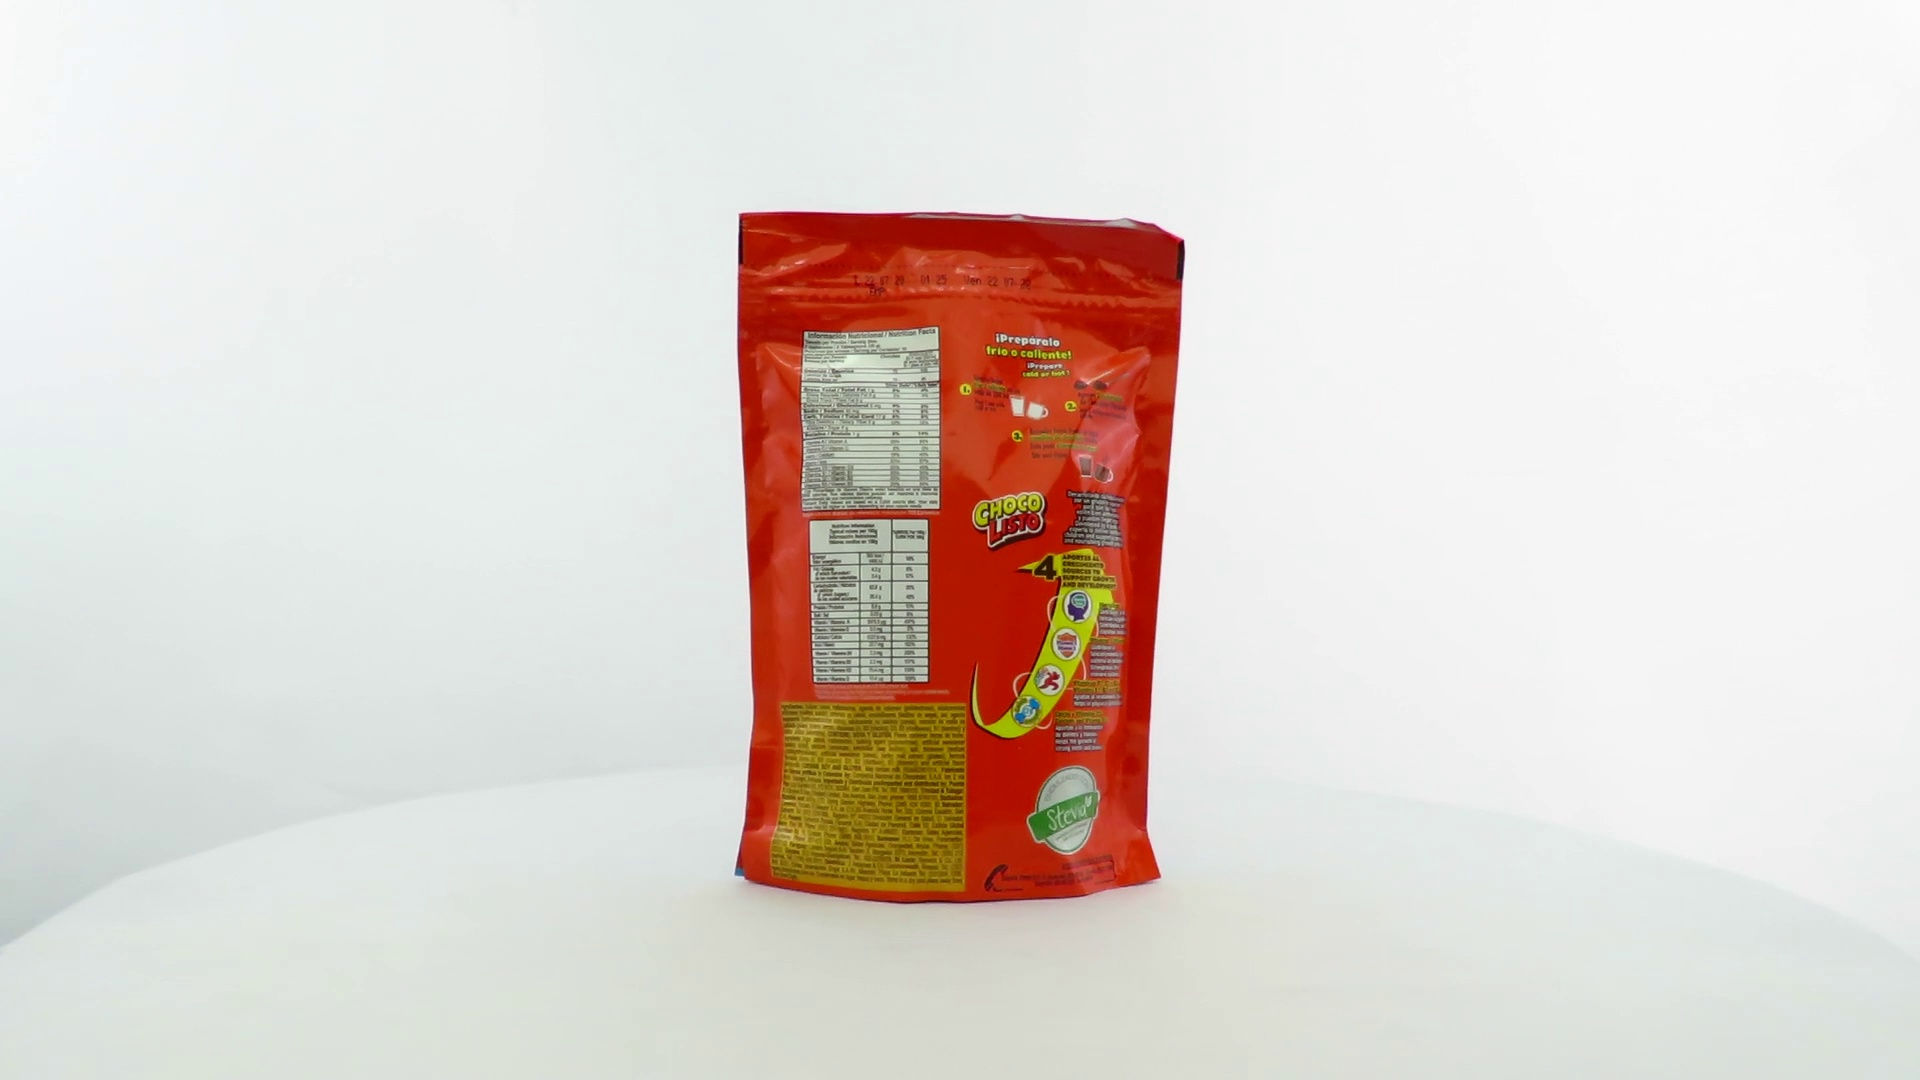COL0170104DYP20000: (729, 206, 1191, 910)
